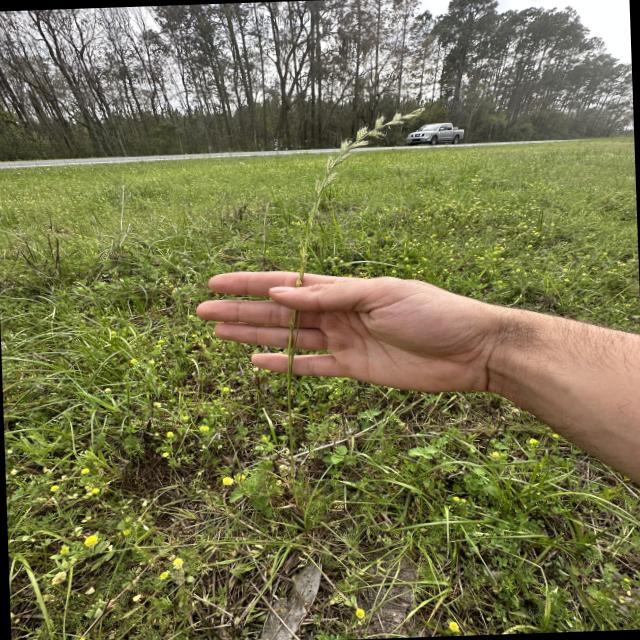Lolium: (266, 108, 434, 402)
